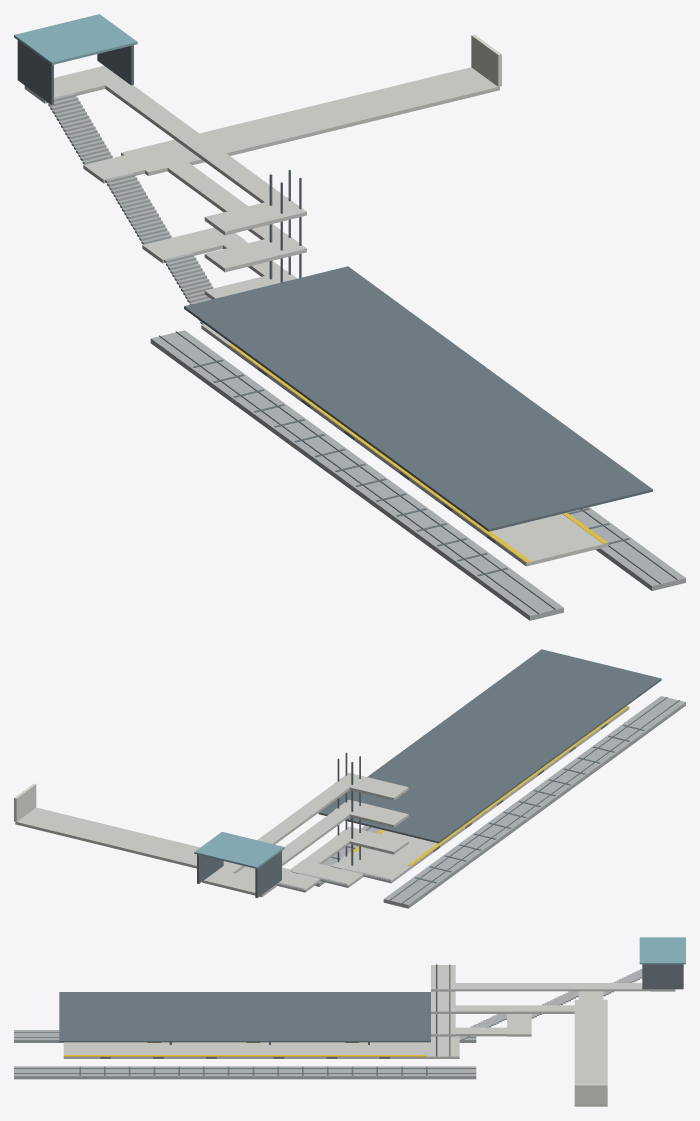
The model's file is vancouver-city-centre.glb.
3 views of the same model, one above another, from view 1: azimuth 30°, elevation 25°; view 2: azimuth 150°, elevation 25°; view 3: azimuth 270°, elevation 25° (orthographic). The views are drawn at different scales.
Parts seen in each view (by area): view 1: batch-removable-roof-steel, batch-trackbed-concrete, floor-vcc-mall-spur, batch-stair-tread-concrete, floor-vcc-canada-lift-side, floor-vcc-canada, batch-removable-roof-glass, batch-rail-steel, batch-static-steel, floor-vcc-canada-lift-corridor-2, floor-vcc-canada-lift-mid-2, floor-vcc-canada-landing-2 (+6 smaller); view 2: batch-removable-roof-steel, batch-trackbed-concrete, floor-vcc-mall-spur, floor-vcc-canada-lift-side, batch-removable-roof-glass, floor-vcc-canada, batch-rail-steel, floor-vcc-canada-lift-corridor-2, batch-static-steel, floor-vcc-canada-landing, floor-vcc-canada-lift-mid-1, floor-vcc-canada-lift-mid-2 (+10 smaller); view 3: batch-removable-roof-steel, batch-trackbed-concrete, floor-vcc-canada, floor-vcc-mall-spur, floor-vcc-canada-lift-side, batch-removable-roof-glass, batch-rail-steel, floor-vcc-canada-lift-corridor-2, batch-static-steel, batch-stair-tread-concrete, floor-vcc-canada-lift-corridor-1, batch-static-yellow (+8 smaller).
Part boxes in pixels (bbox=[...]): batch-removable-roof-steel: bbox=[184, 266, 652, 531]; batch-trackbed-concrete: bbox=[150, 330, 685, 620]; floor-vcc-mall-spur: bbox=[121, 67, 499, 175]; batch-stair-tread-concrete: bbox=[46, 93, 213, 324]; floor-vcc-canada-lift-side: bbox=[85, 66, 306, 220]; floor-vcc-canada: bbox=[228, 344, 608, 566]; batch-removable-roof-glass: bbox=[14, 14, 137, 64]; batch-rail-steel: bbox=[159, 331, 677, 613]; batch-static-steel: bbox=[17, 40, 133, 104]; floor-vcc-canada-lift-corridor-2: bbox=[144, 145, 305, 250]; floor-vcc-canada-lift-mid-2: bbox=[204, 234, 306, 272]; floor-vcc-canada-landing-2: bbox=[83, 145, 185, 183]; batch-removable-roof-steel: bbox=[318, 649, 661, 843]; batch-trackbed-concrete: bbox=[315, 696, 685, 908]; floor-vcc-mall-spur: bbox=[15, 807, 292, 878]; floor-vcc-canada-lift-side: bbox=[203, 773, 364, 886]; batch-removable-roof-glass: bbox=[194, 832, 284, 868]; floor-vcc-canada: bbox=[355, 707, 629, 868]; batch-rail-steel: bbox=[331, 697, 679, 903]; floor-vcc-canada-lift-corridor-2: bbox=[246, 800, 363, 876]; batch-static-steel: bbox=[197, 851, 281, 897]; floor-vcc-canada-landing: bbox=[331, 852, 411, 883]; floor-vcc-canada-lift-mid-1: bbox=[334, 826, 408, 854]; floor-vcc-canada-lift-mid-2: bbox=[334, 799, 408, 827]; batch-removable-roof-steel: bbox=[59, 992, 430, 1042]; batch-trackbed-concrete: bbox=[14, 1030, 476, 1079]; floor-vcc-canada: bbox=[63, 1042, 426, 1058]; floor-vcc-mall-spur: bbox=[574, 999, 607, 1106]; floor-vcc-canada-lift-side: bbox=[431, 983, 650, 991]; batch-removable-roof-glass: bbox=[639, 937, 685, 964]; batch-rail-steel: bbox=[14, 1032, 476, 1075]; floor-vcc-canada-lift-corridor-2: bbox=[431, 1005, 598, 1013]; batch-static-steel: bbox=[169, 964, 683, 1044]; batch-stair-tread-concrete: bbox=[459, 969, 642, 1040]; floor-vcc-canada-lift-corridor-1: bbox=[431, 1027, 531, 1036]; batch-static-yellow: bbox=[63, 1055, 426, 1056].
Bounding box in the file's own units: 37.15 × 14.17 × 81.4.
